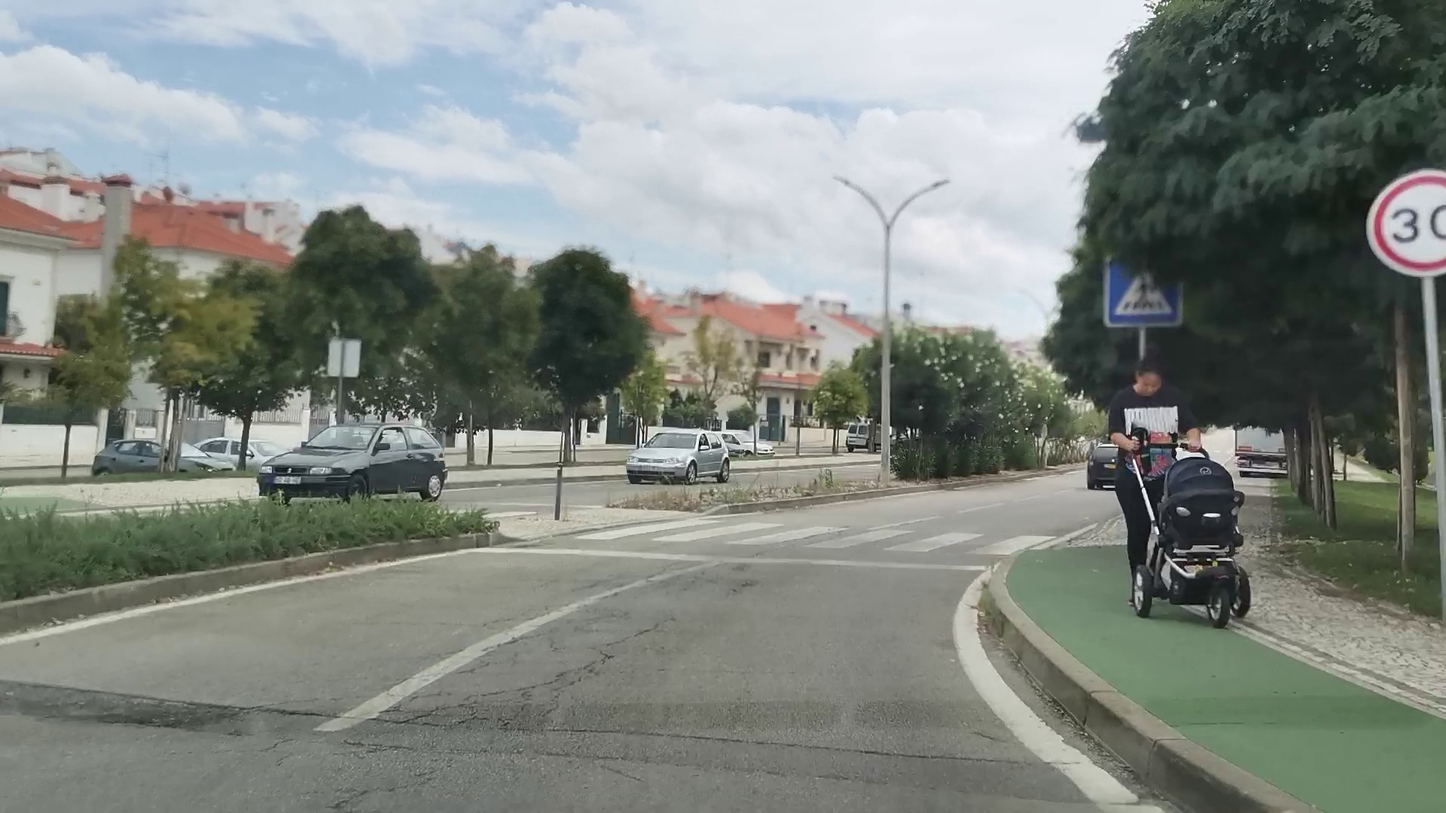Stairs: (582, 519, 1061, 560)
